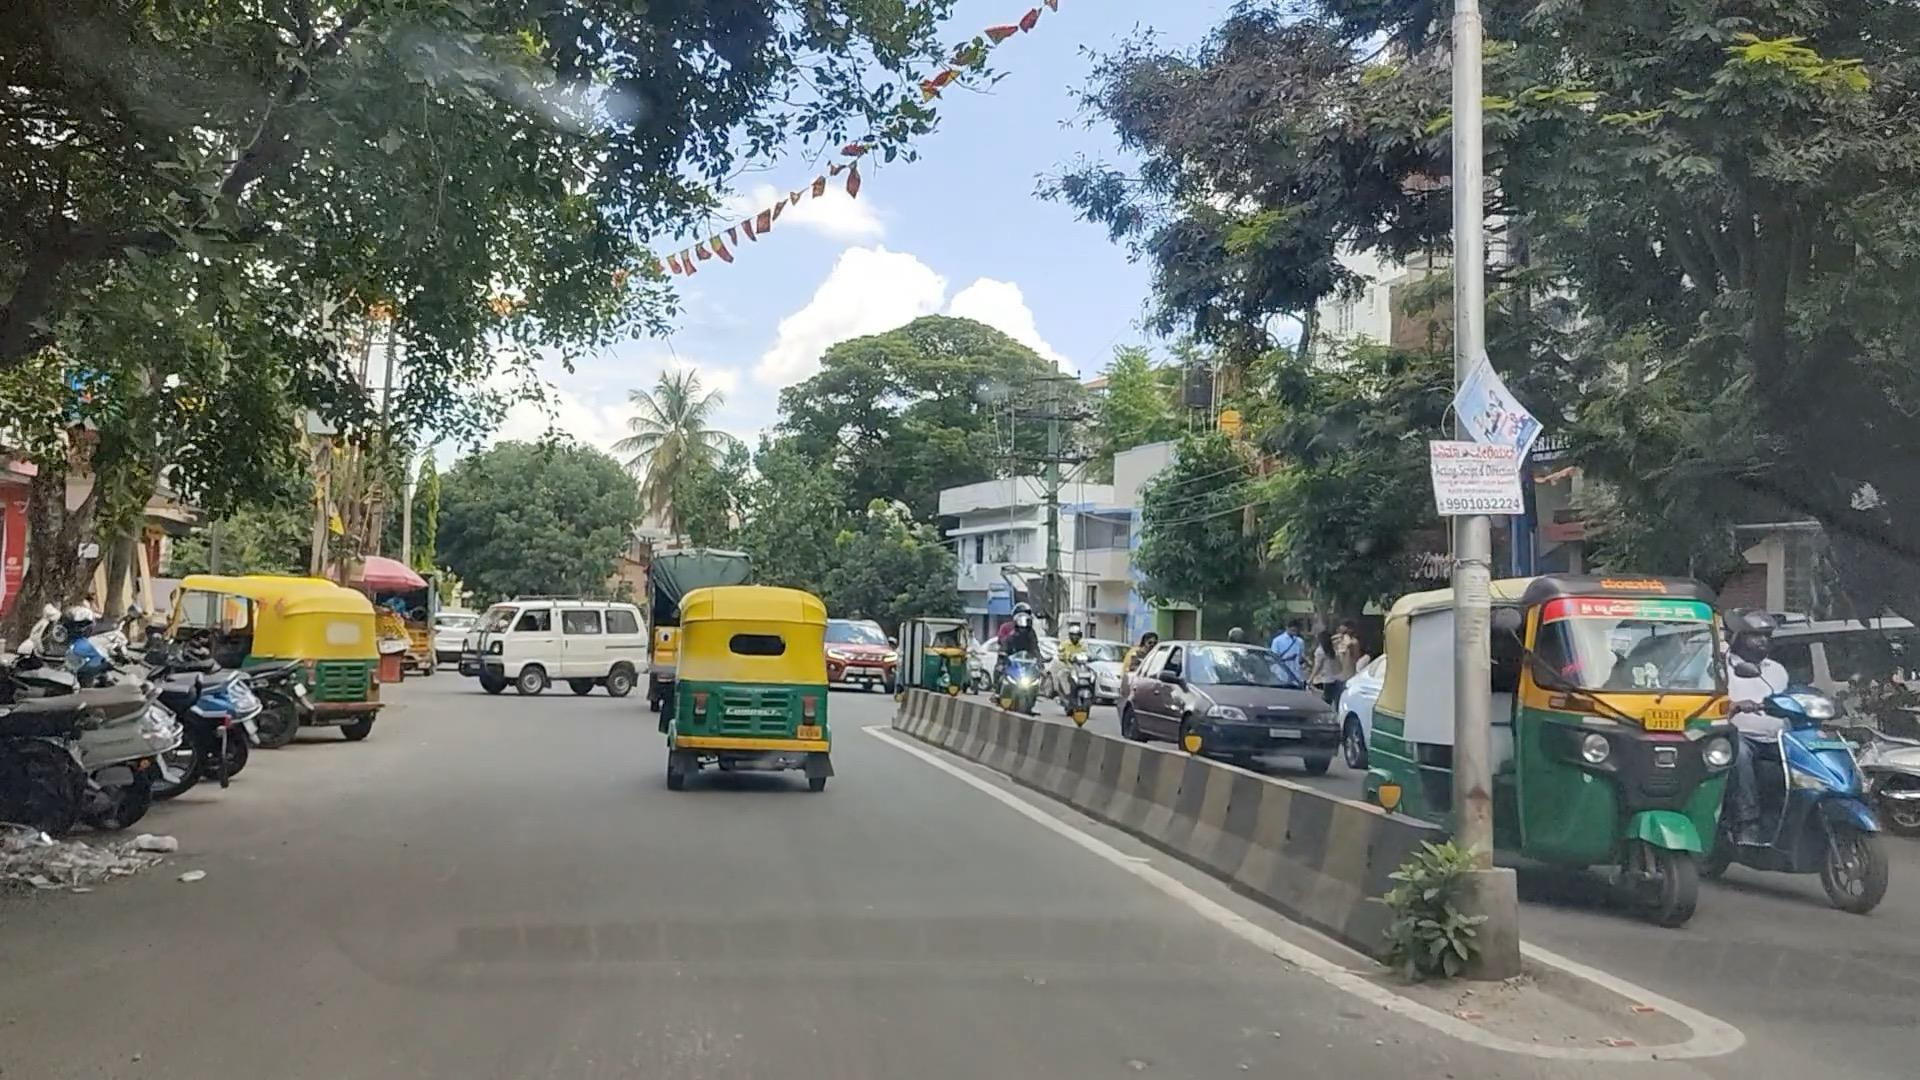LMV: (177, 574, 404, 758), (690, 596, 807, 757), (491, 607, 638, 699)
